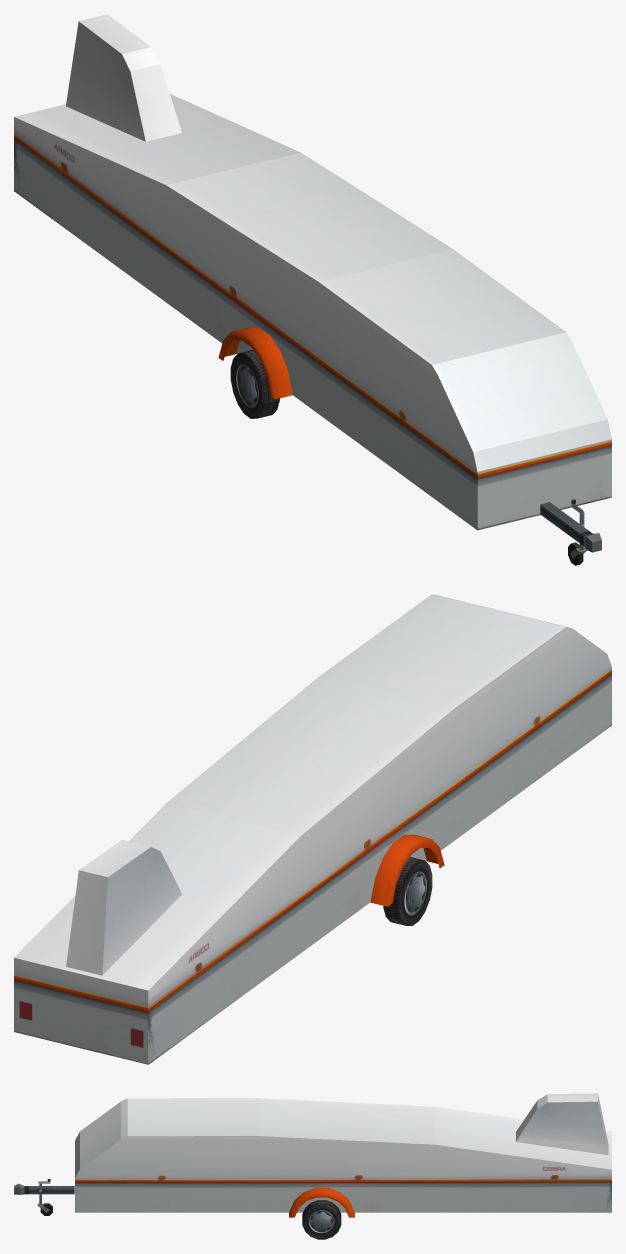
Rendered from glider-trailer-orange-9m-cbj_LOD01.gltf.
3 renders of one model, top to bottom at view 1: azimuth 30°, elevation 25°; view 2: azimuth 150°, elevation 25°; view 3: azimuth 270°, elevation 25°, orthographic. The views are drawn at different scales.
Parts seen in each view (by area): view 1: trailer01; view 2: trailer01; view 3: trailer01.
Boxes of the visible parts, bbox=[...] form: trailer01: bbox=[14, 14, 611, 565]; trailer01: bbox=[14, 594, 611, 1064]; trailer01: bbox=[14, 1093, 611, 1239].
Bounding box in the file's own units: 1.7 × 1.96 × 9.
